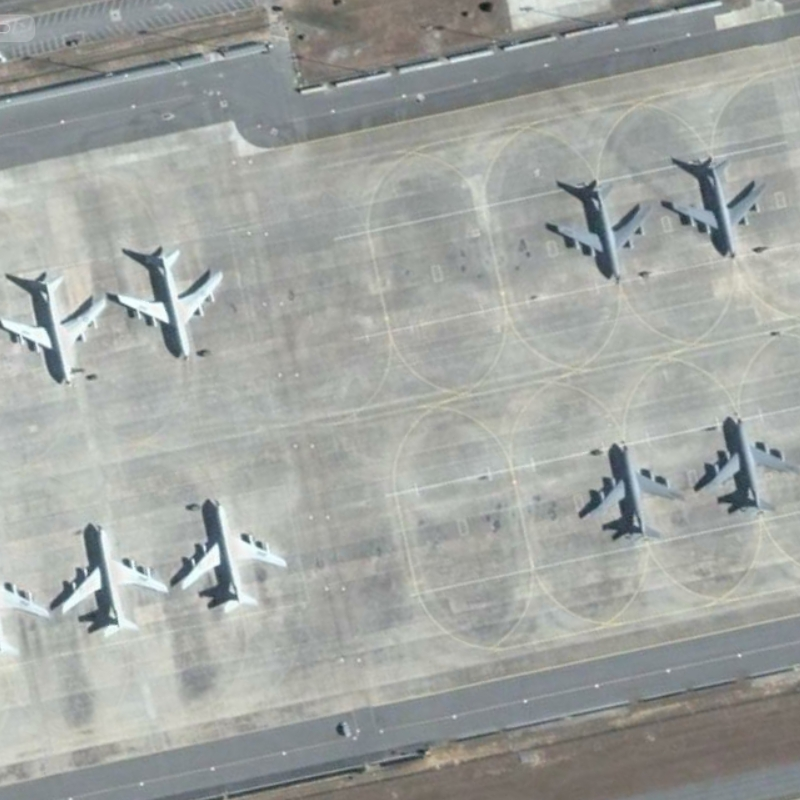A11: (112, 244, 226, 365), (57, 522, 172, 639), (176, 499, 289, 614), (1, 272, 109, 387)
A14: (544, 173, 654, 292), (576, 441, 689, 544), (693, 412, 800, 519), (667, 156, 769, 264)
